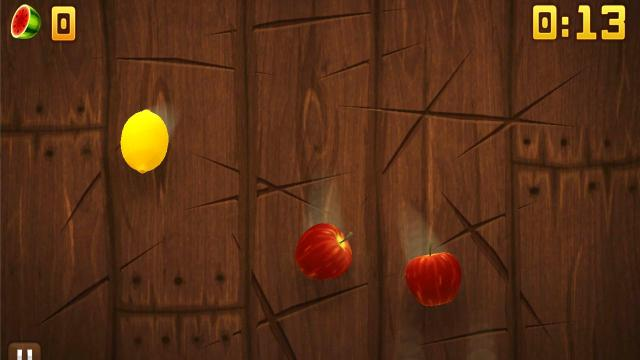fruit: (292, 222, 353, 282), (406, 241, 462, 305), (119, 108, 170, 174)
ignore: (8, 2, 44, 42)
